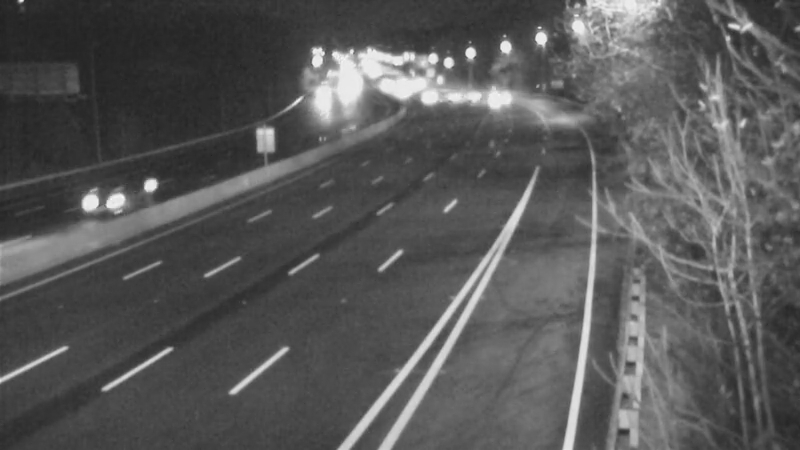vehicle: (65, 165, 145, 245), (446, 69, 496, 119), (423, 73, 473, 123), (472, 71, 522, 121)
